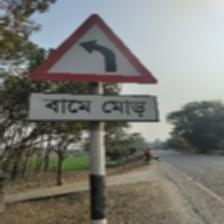Left-Turn: (26, 11, 162, 125)
